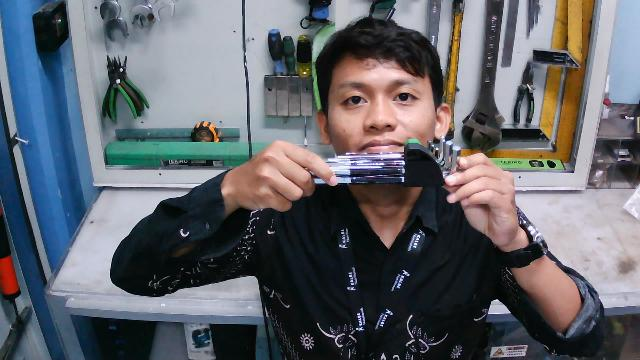kunci_l: (295, 134, 465, 192)
